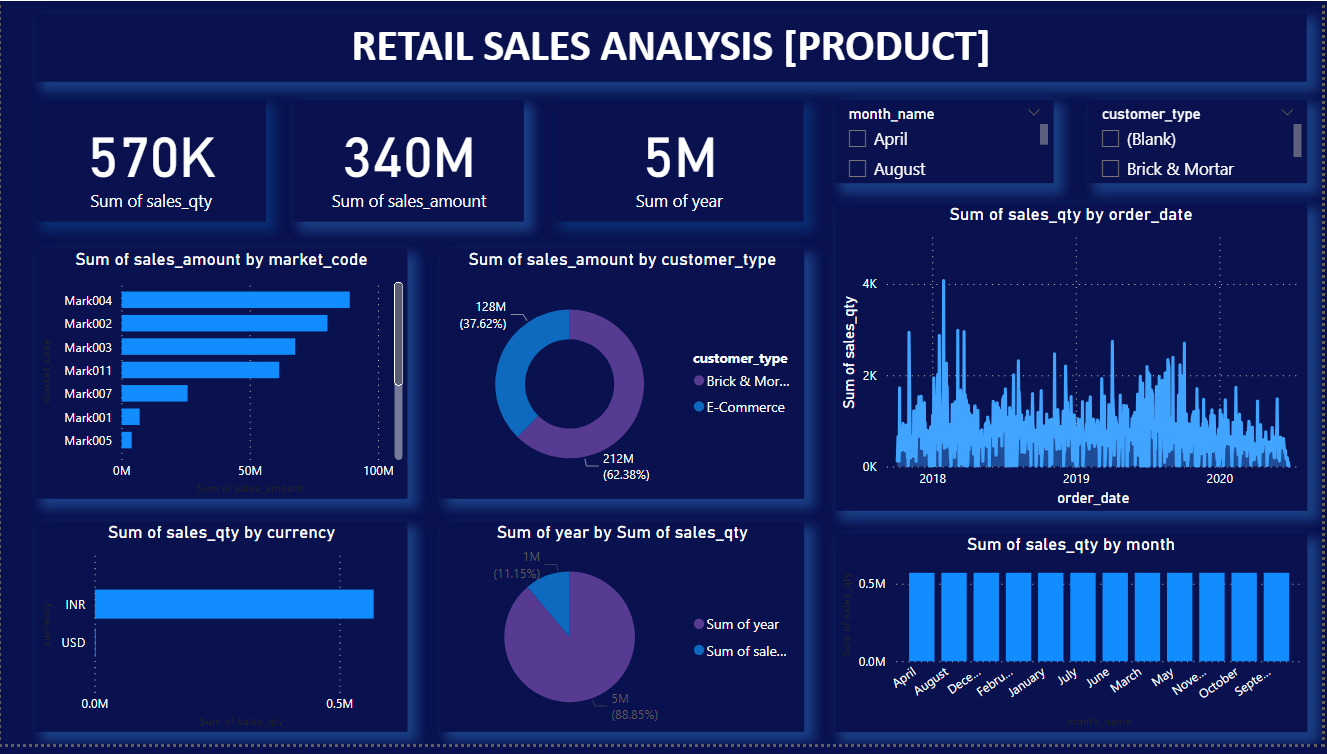

Layout of this report page (visuals, bound fields, positions):
{"tool":"powerbi","page":{"name":"Product","canvas":[1280,720],"ordinal":0},"visuals":[{"type":"barChart","fields":{"Y":["Sum(Products.sales_amount)"],"Category":["Products.market_code"]},"box":[34,239.5,360.8,242.7],"z":0},{"type":"areaChart","fields":{"Category":["Products.order_date"],"Y":["Sum(Products.sales_qty)"]},"box":[809,195.8,457.9,297.7],"z":1000},{"type":"barChart","fields":{"Y":["Sum(Products.sales_qty)"],"Category":["Products.currency"]},"box":[34,504.8,360.8,203.9],"z":2000},{"type":"card","fields":{"Values":["Sum(Products.sales_qty)"]},"box":[34,95.5,223.3,118.1],"z":3000},{"type":"card","fields":{"Values":["Sum(Products.sales_amount)"]},"box":[283.1,95.5,223.3,118.1],"z":4000},{"type":"pieChart","title":"Sum of year by Sum of sales_qty","fields":{"Y":["Sum(date_table.year)","Sum(Products.sales_qty)"]},"box":[425.5,504.8,352.7,203.9],"z":5000},{"type":"donutChart","fields":{"Category":["Customer.customer_type"],"Y":["Sum(Products.sales_amount)"]},"box":[425.5,239.5,352.7,242.7],"z":6000},{"type":"columnChart","title":"Sum of sales_qty by month","fields":{"Category":["date_table.month_name"],"Y":["Sum(Products.sales_qty)"]},"box":[809,516.1,457.9,192.5],"z":7000},{"type":"card","fields":{"Values":["Sum(date_table.year)"]},"box":[537.2,95.5,241.1,118.1],"z":7001},{"type":"slicer","fields":{"Values":["date_table.month_name"]},"box":[809,95.5,212,80.9],"z":7002},{"type":"slicer","fields":{"Values":["Customer.customer_type"]},"box":[1054.9,95.5,212,80.9],"z":7003},{"type":"textbox","box":[34,11.3,1232.9,66.3],"z":7004}]}

Visuals, with their boxes in screenshot pixels (x1, y1, x2, y2), scaled from the page's 1280x720 canvas onto the 1327x754 screenshot:
barChart - Sum(Products.sales_amount) x Products.market_code: rect(35, 251, 409, 505)
areaChart - Products.order_date x Sum(Products.sales_qty): rect(839, 205, 1313, 517)
barChart - Sum(Products.sales_qty) x Products.currency: rect(35, 529, 409, 742)
card - Sum(Products.sales_qty): rect(35, 100, 267, 224)
card - Sum(Products.sales_amount): rect(293, 100, 525, 224)
"Sum of year by Sum of sales_qty" pieChart: rect(441, 529, 807, 742)
donutChart - Customer.customer_type x Sum(Products.sales_amount): rect(441, 251, 807, 505)
"Sum of sales_qty by month" columnChart: rect(839, 540, 1313, 742)
card - Sum(date_table.year): rect(557, 100, 807, 224)
slicer - date_table.month_name: rect(839, 100, 1058, 185)
slicer - Customer.customer_type: rect(1094, 100, 1313, 185)
textbox: rect(35, 12, 1313, 81)
